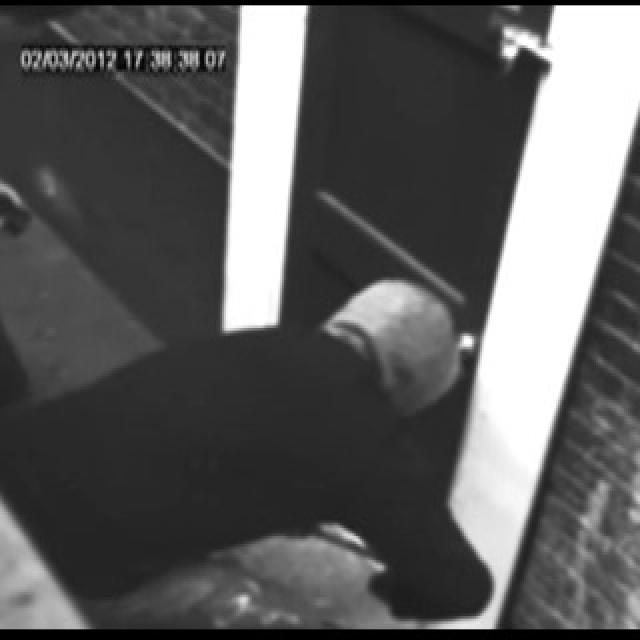thief: (306, 239, 472, 452)
